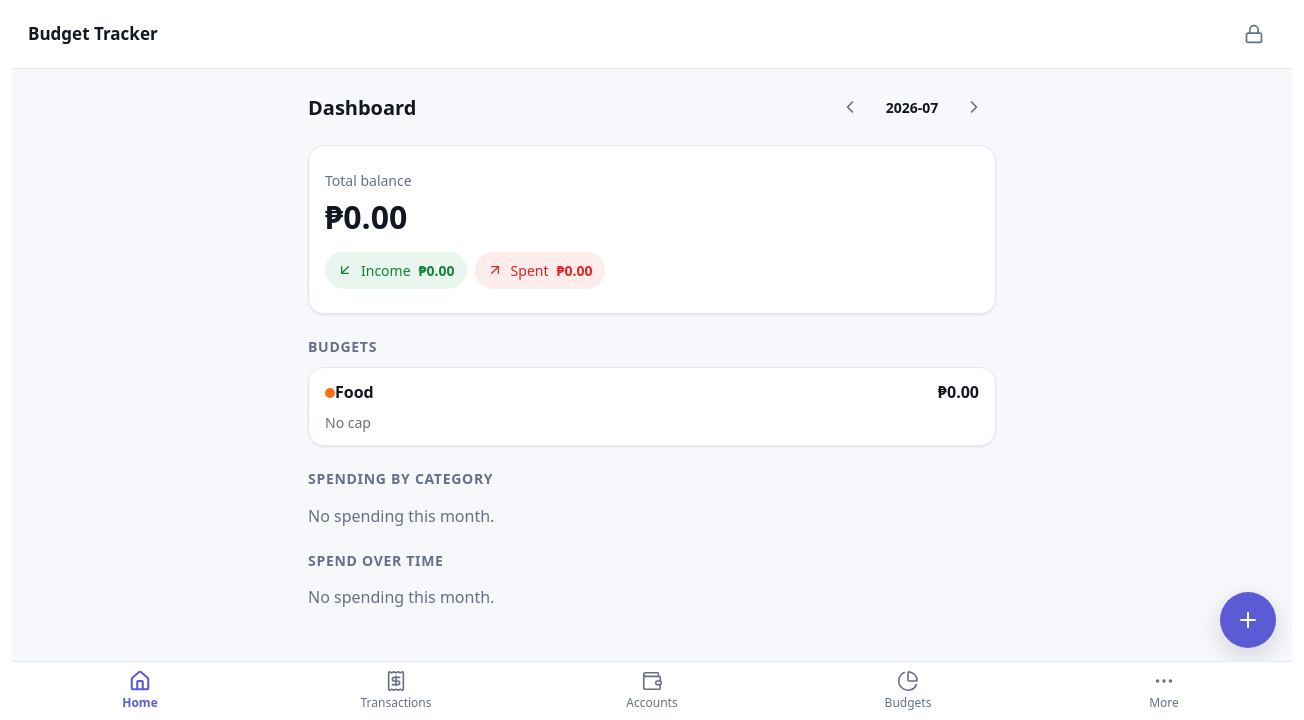
Test case: CategoriesScreen › deletes a category after confirmation
Check: the button named "Lock" is shown, box [1232,12,1276,56]
What coordinates should you click on to do the following:
click the button "Budgets"
I would click on:
 (908, 691)
Its box is [780,662,1036,719].
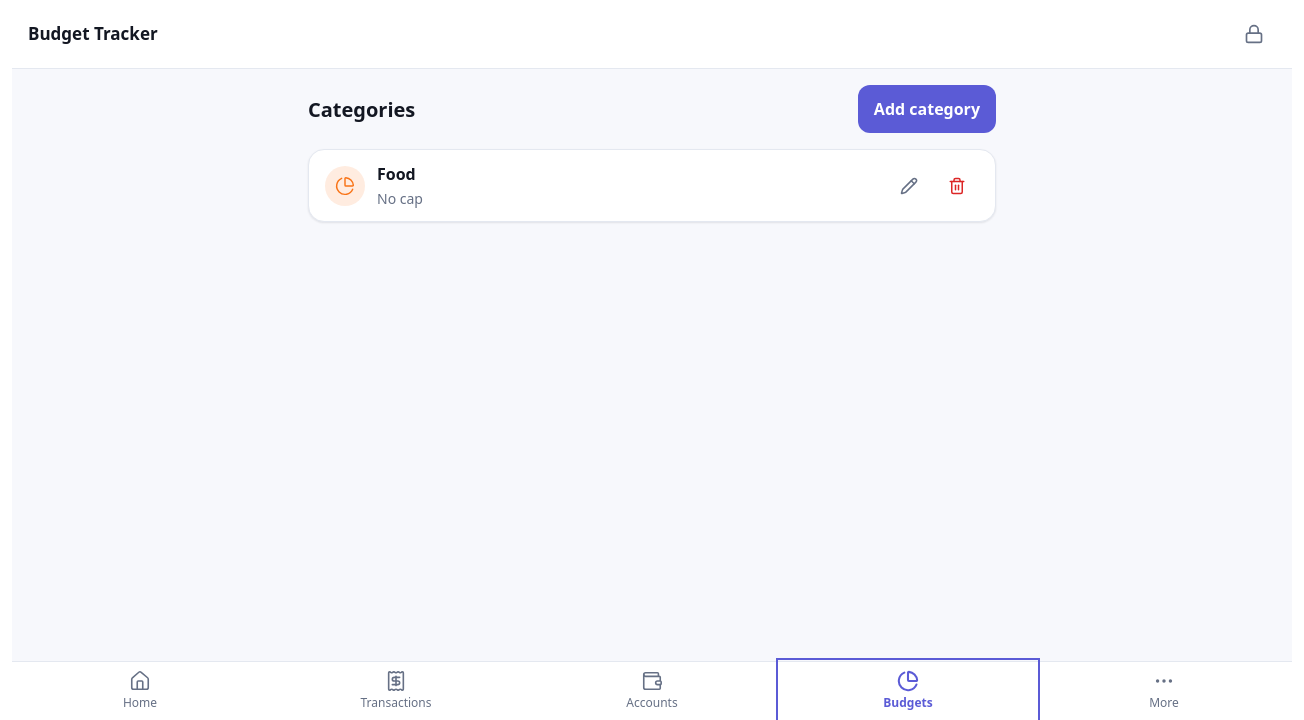
What coordinates should you click on to do the following:
click the button named "Delete Food"
I would click on:
 (957, 186)
Its box is [935,164,979,208].
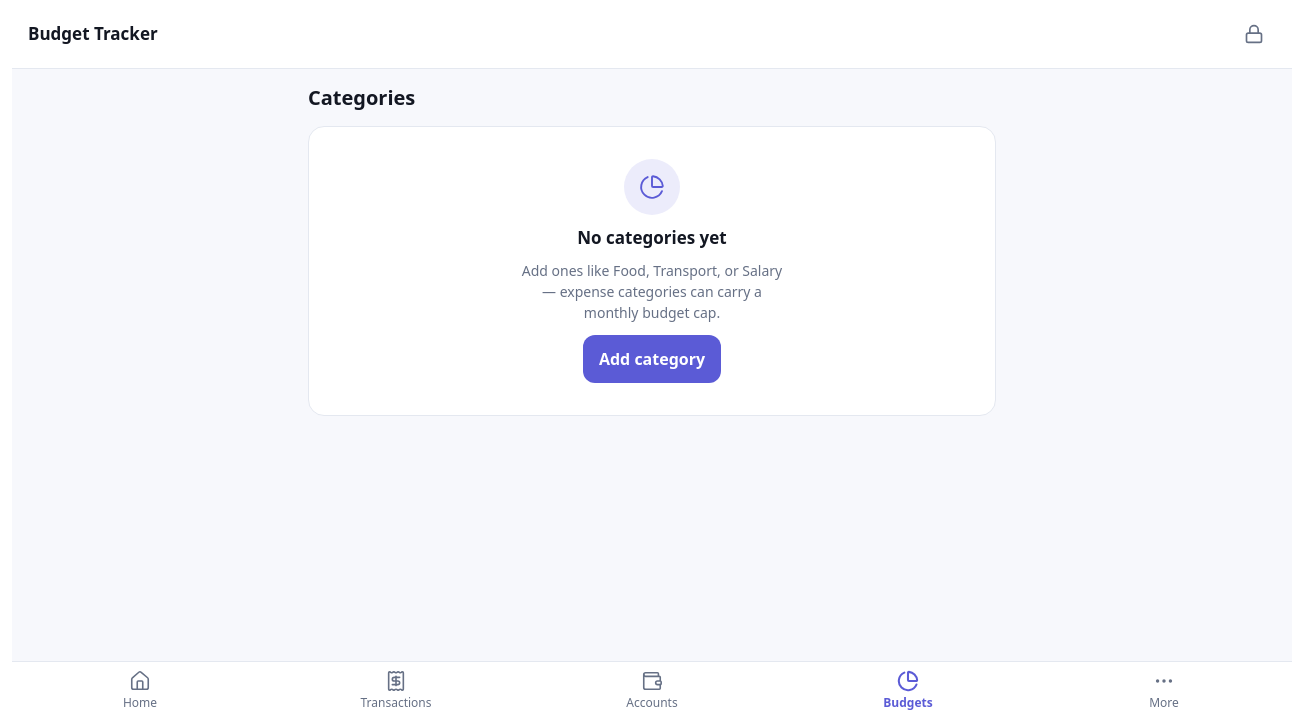
Check: the heading "No categories yet" is shown, box [577,227,727,248]
